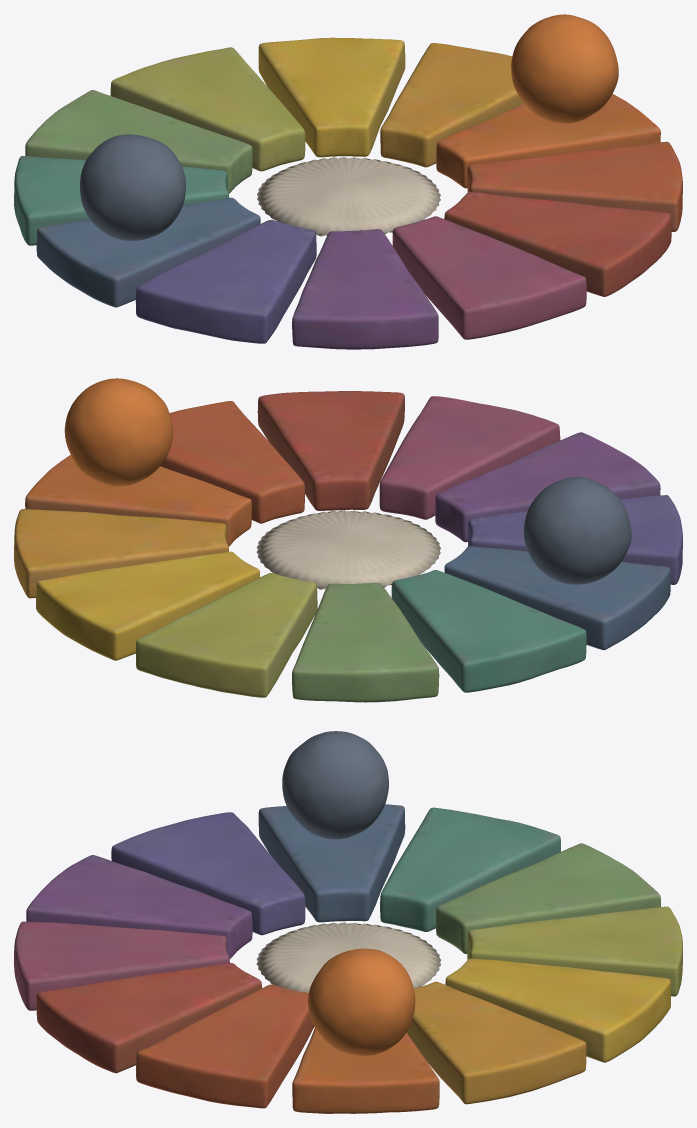
The model's file is neutralizacion-del-color.mobile.glb.
The picture shows the model from 3 angles, top to bottom: view 1: azimuth 30°, elevation 25°; view 2: azimuth 150°, elevation 25°; view 3: azimuth 270°, elevation 25°; orthographic projection.
Parts seen in each view (by area): view 1: Cuña_09.001, Cuña_07.001, Cuña_08.001, Cuña_02.001, Cuña_10.001, Cuña_03.001, Cuña_06.001, Cuña_11.001, Peana.001, Cuña_01.001, Cuña_04.001, Gota_naranja.001 (+3 smaller); view 2: Cuña_05.001, Cuña_03.001, Cuña_02.001, Cuña_04.001, Cuña_10.001, Cuña_09.001, Cuña_01.001, Cuña_06.001, Peana.001, Cuña_11.001, Cuña_08.001, Gota_naranja.001 (+3 smaller); view 3: Cuña_11.001, Cuña_01.001, Cuña_10.001, Cuña_02.001, Cuña_07.001, Cuña_05.001, Cuña_04.001, Cuña_08.001, Cuña_09.001, Cuña_03.001, Cuña_06.001, Cuña_00.001 (+3 smaller).
Boxes of the visible parts, x1,y1,x2,y2 form: Cuña_09.001: (392, 216, 586, 339); Cuña_07.001: (135, 219, 316, 343); Cuña_08.001: (292, 229, 438, 349); Cuña_02.001: (258, 37, 405, 157); Cuña_10.001: (444, 192, 671, 296); Cuña_03.001: (110, 47, 305, 171); Cuña_06.001: (36, 197, 260, 307); Cuña_11.001: (467, 141, 682, 231); Peana.001: (257, 157, 440, 236); Cuña_01.001: (380, 43, 523, 167); Cuña_04.001: (25, 90, 252, 193); Gota_naranja.001: (511, 14, 618, 123); Cuña_05.001: (391, 570, 586, 692); Cuña_03.001: (136, 573, 317, 697); Cuña_02.001: (36, 551, 259, 660); Cuña_04.001: (292, 582, 439, 702); Cuña_10.001: (257, 391, 404, 510); Cuña_09.001: (379, 396, 560, 519); Cuña_01.001: (14, 509, 228, 598); Cuña_06.001: (444, 546, 670, 650); Peana.001: (256, 510, 440, 589); Cuña_11.001: (160, 401, 304, 523); Cuña_08.001: (435, 432, 660, 542); Gota_naranja.001: (64, 378, 173, 486); Cuña_11.001: (136, 984, 314, 1108); Cuña_01.001: (406, 981, 586, 1104); Cuña_10.001: (36, 963, 261, 1073); Cuña_02.001: (445, 958, 670, 1062); Cuña_07.001: (111, 812, 305, 935); Cuña_05.001: (380, 807, 560, 931); Cuña_04.001: (436, 843, 660, 953); Cuña_08.001: (26, 855, 252, 958); Cuña_09.001: (14, 921, 229, 1010); Cuña_03.001: (467, 906, 682, 996); Cuña_06.001: (258, 804, 405, 922); Cuña_00.001: (292, 1027, 439, 1113).
Bounding box in the file's own units: 5.2 × 1.13 × 5.2.
17 materials, 16 textured.
